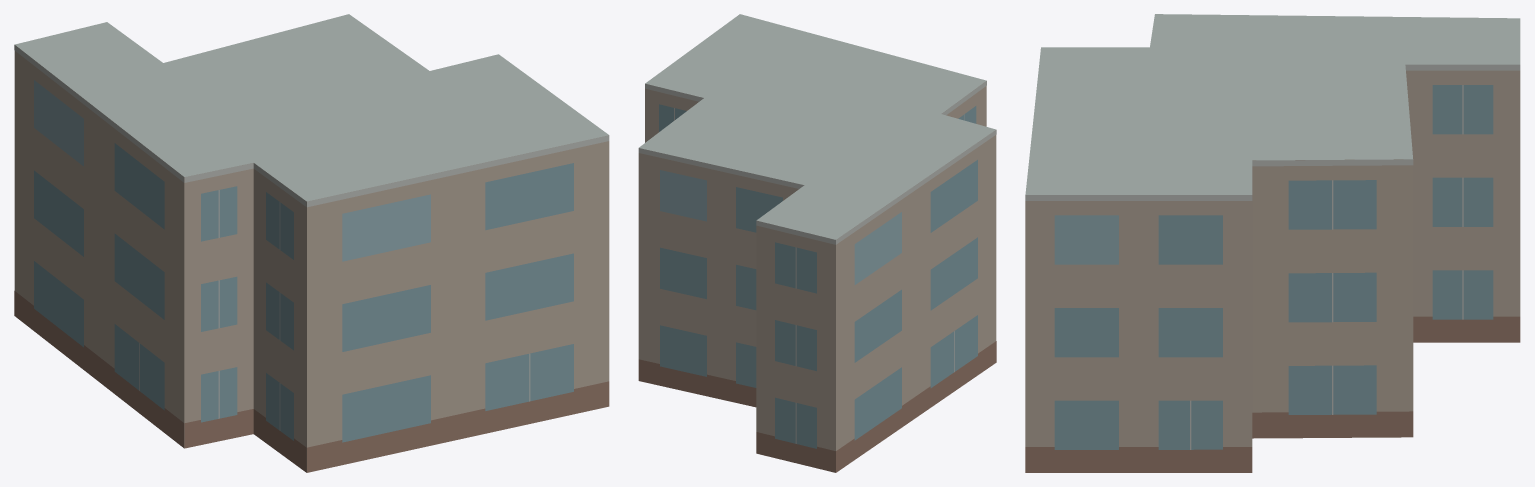
Rendered from survey-upis-33007838.glb.
3 renders of one model, left to right at view 1: azimuth 30°, elevation 25°; view 2: azimuth 150°, elevation 25°; view 3: azimuth 270°, elevation 25°, orthographic. The views are drawn at different scales.
Visible parts, largest first — view 1: survey-upis-33007838.tmp; view 2: survey-upis-33007838.tmp; view 3: survey-upis-33007838.tmp.
Boxes of the visible parts, <box> form: survey-upis-33007838.tmp: <box>14,14,609,472</box>; survey-upis-33007838.tmp: <box>638,14,996,472</box>; survey-upis-33007838.tmp: <box>1025,14,1520,472</box>.
Bounding box in the file's own units: 15.92 × 11.4 × 18.41.
